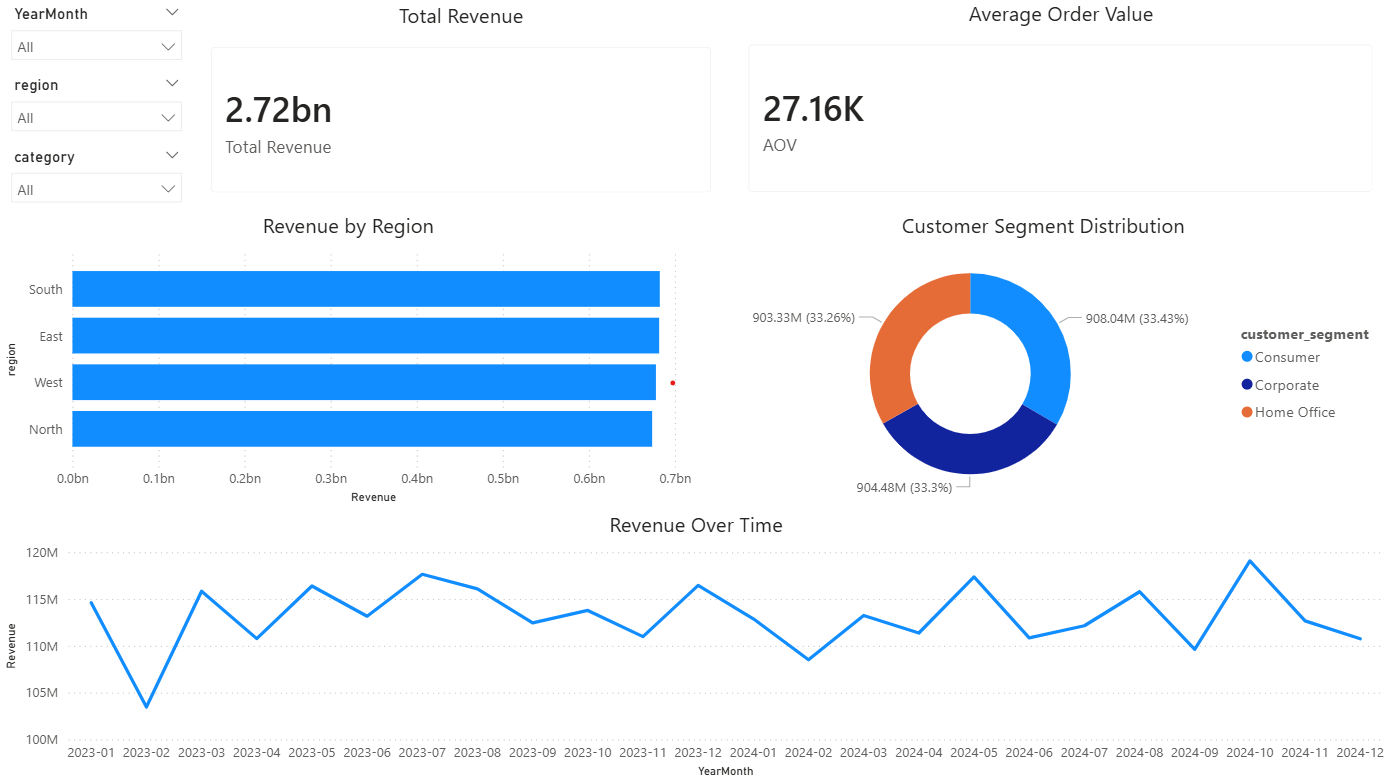

What the dashboard file says about the page in this screenshot:
{"tool":"powerbi","page":{"name":"Overview","canvas":[1280,720],"ordinal":0},"visuals":[{"type":"cardVisual","fields":{"Data":["fact_order_item.Total Revenue"]},"box":[0,359.5,177.3,176.1],"z":0},{"type":"cardVisual","fields":{"Data":["fact_order_item.AOV"]},"box":[0,535.6,177.3,184.6],"z":1000},{"type":"lineChart","fields":{"Category":["fact_order.YearMonth"],"Y":["fact_order.Revenue"]},"box":[177.3,349.7,1103,370.5],"z":2000},{"type":"clusteredBarChart","fields":{"Category":["dim_customer.region"],"Y":["fact_order.Revenue"]},"box":[188.3,0,600.4,349.7],"z":3000},{"type":"donutChart","fields":{"Category":["dim_customer.customer_segment"],"Y":["fact_order.Revenue"]},"box":[788.7,0,491.6,349.7],"z":4000},{"type":"slicer","title":"Select Month","fields":{"Values":["fact_order.YearMonth"]},"box":[0,0,177.3,103.9],"z":4001},{"type":"slicer","title":"Select Region","fields":{"Values":["dim_customer.region"]},"box":[0,112.5,177.3,108.8],"z":4002},{"type":"slicer","title":"Select Category","fields":{"Values":["dim_product.category"]},"box":[0,244.6,188.3,105.2],"z":4003}]}

Visuals, with their boxes in screenshot pixels (x1, y1, x2, y2), scaled from the page's 1280x720 canvas onto the 1390x781 screenshot:
cardVisual - fact_order_item.Total Revenue: [0, 390, 193, 581]
cardVisual - fact_order_item.AOV: [0, 581, 193, 780]
lineChart - fact_order.YearMonth x fact_order.Revenue: [193, 379, 1389, 780]
clusteredBarChart - dim_customer.region x fact_order.Revenue: [204, 0, 856, 379]
donutChart - dim_customer.customer_segment x fact_order.Revenue: [856, 0, 1389, 379]
"Select Month" slicer: [0, 0, 193, 113]
"Select Region" slicer: [0, 122, 193, 240]
"Select Category" slicer: [0, 265, 204, 379]
